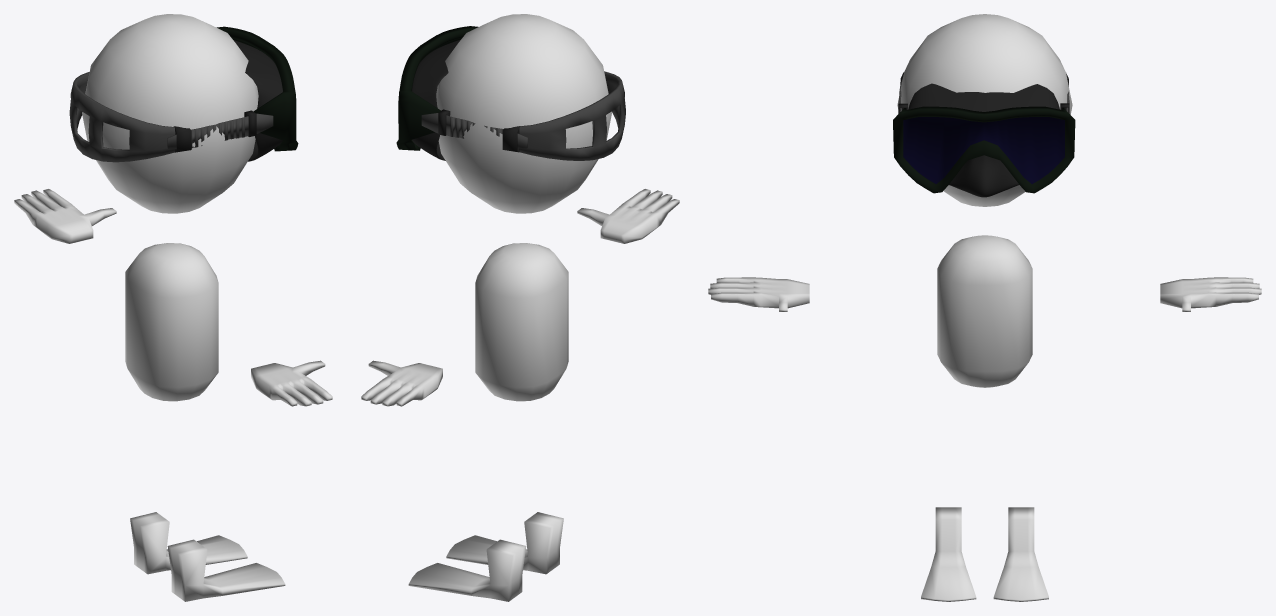
File: player.glb
The picture shows the model from 3 angles, left to right: view 1: azimuth 30°, elevation 25°; view 2: azimuth 150°, elevation 25°; view 3: azimuth 270°, elevation 25°; orthographic projection. The views are drawn at different scales.
Visible parts, largest first — view 1: Sphere, Cylinder, Cube.006, Cube.005, Sphere.001, Cube, Cube.001, Cube.002; view 2: Sphere, Cylinder, Cube.006, Cube.005, Sphere.001, Cube, Cube.001, Cube.002; view 3: Cylinder, Cube, Sphere, Cube.006, Cube.005, Cube.001.
Boxes of the visible parts, x1,y1,x2,y2 form: Sphere: (82, 14, 258, 213); Cylinder: (125, 243, 218, 401); Cube.006: (130, 512, 285, 601); Cube.005: (14, 189, 332, 406); Sphere.001: (69, 72, 175, 162); Cube: (217, 26, 298, 151); Cube.001: (233, 40, 282, 161); Cube.002: (167, 113, 273, 149); Sphere: (436, 14, 611, 213); Cylinder: (475, 243, 568, 401); Cube.006: (408, 512, 563, 601); Cube.005: (361, 189, 679, 406); Sphere.001: (519, 71, 625, 160); Cube: (396, 26, 477, 150); Cube.001: (412, 39, 460, 160); Cube.002: (421, 113, 527, 148); Cylinder: (937, 235, 1032, 387); Cube: (893, 106, 1075, 193); Sphere: (897, 14, 1072, 206); Cube.006: (921, 507, 1048, 601); Cube.005: (708, 277, 1261, 311); Cube.001: (908, 83, 1059, 197).
Size of the model in its own units: 3.1 by 8.07 by 7.5.
